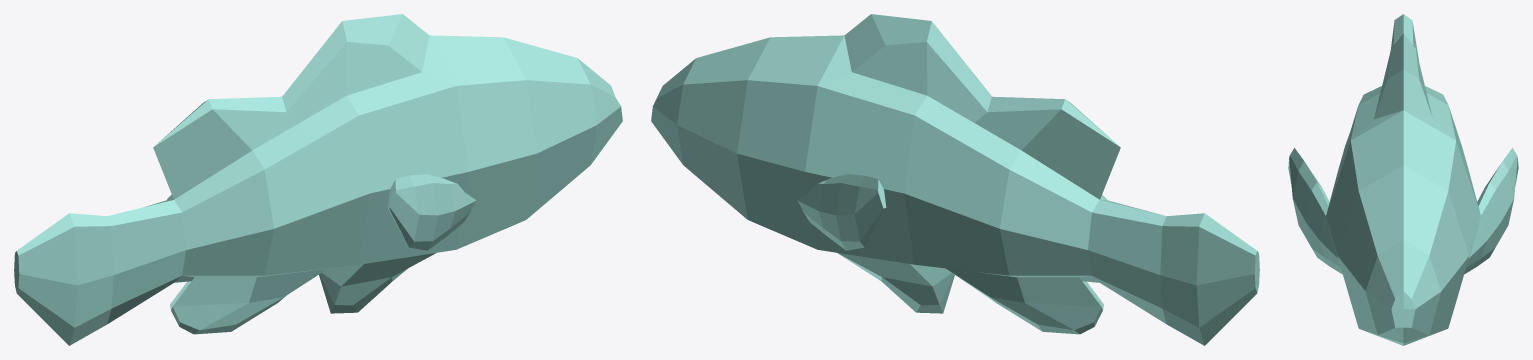
Rendered from Poisson.fbx.
The picture shows the model from 3 angles, left to right: view 1: azimuth 30°, elevation 25°; view 2: azimuth 150°, elevation 25°; view 3: azimuth 270°, elevation 25°; orthographic projection.
Parts seen in each view (by area): view 1: Cube, Cube.001; view 2: Cube, Cube.001; view 3: Cube, Cube.001.
Boxes of the visible parts, bbox=[...] form: Cube: bbox=[14, 14, 622, 345]; Cube.001: bbox=[387, 174, 476, 250]; Cube: bbox=[651, 14, 1259, 345]; Cube.001: bbox=[797, 174, 886, 250]; Cube: bbox=[1326, 14, 1480, 345]; Cube.001: bbox=[1288, 148, 1518, 274].
Bounding box in the file's own units: 448 × 210 × 151.
